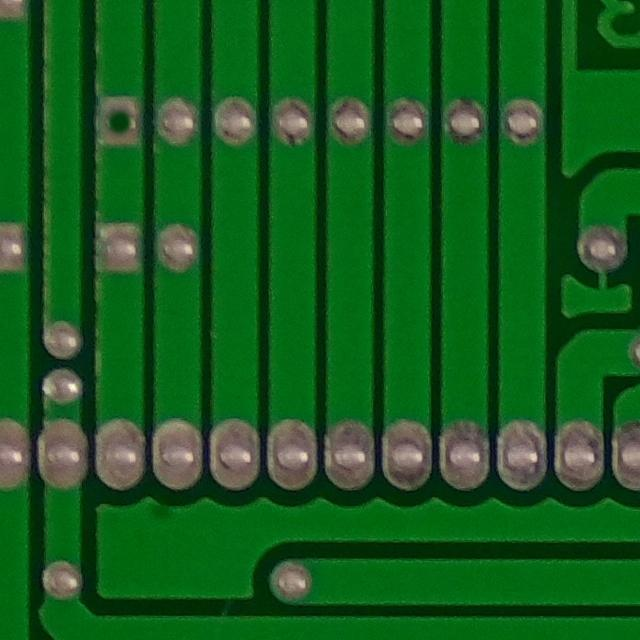missing_hole: (93, 81, 151, 155)
